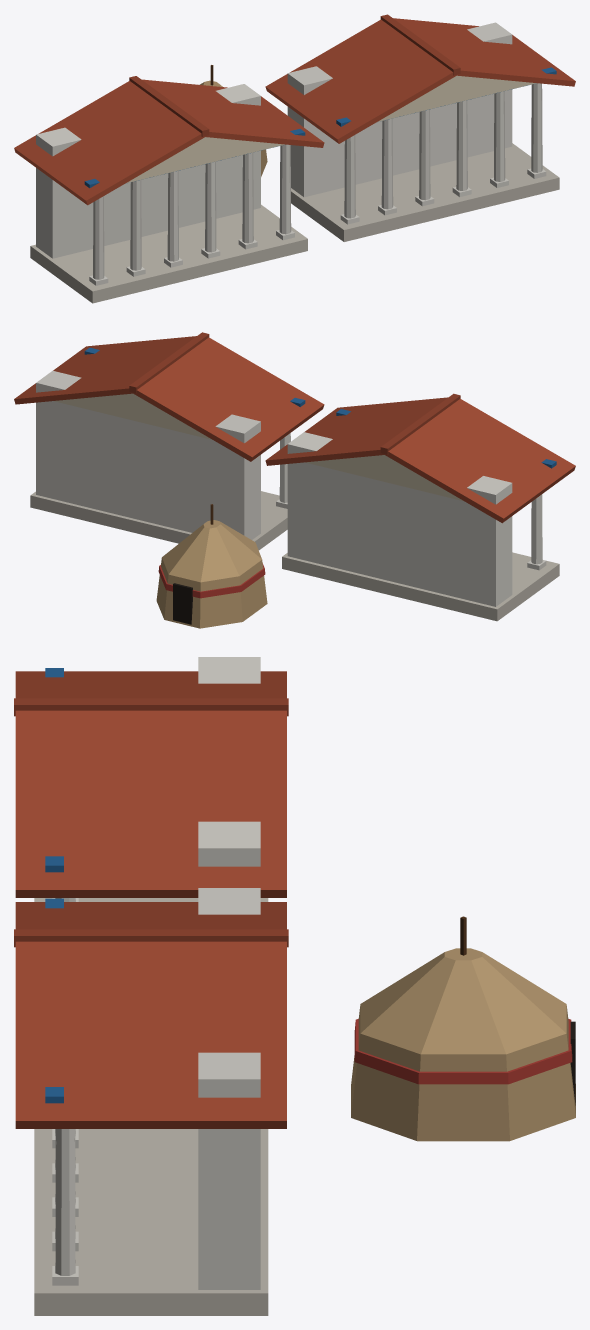
Rendered from centaur_row.glb.
3 renders of one model, top to bottom at view 1: azimuth 30°, elevation 25°; view 2: azimuth 150°, elevation 25°; view 3: azimuth 270°, elevation 25°, orthographic. The views are drawn at different scales.
Parts seen in each view (by area): view 1: centaur_row; view 2: centaur_row; view 3: centaur_row.
Boxes of the visible parts, box(x1,y1,x2,y2) form: centaur_row: box(14, 14, 575, 303); centaur_row: box(14, 332, 575, 628); centaur_row: box(14, 657, 575, 1315).
Size of the model in its own units: 6.82 by 2.01 by 3.6.
